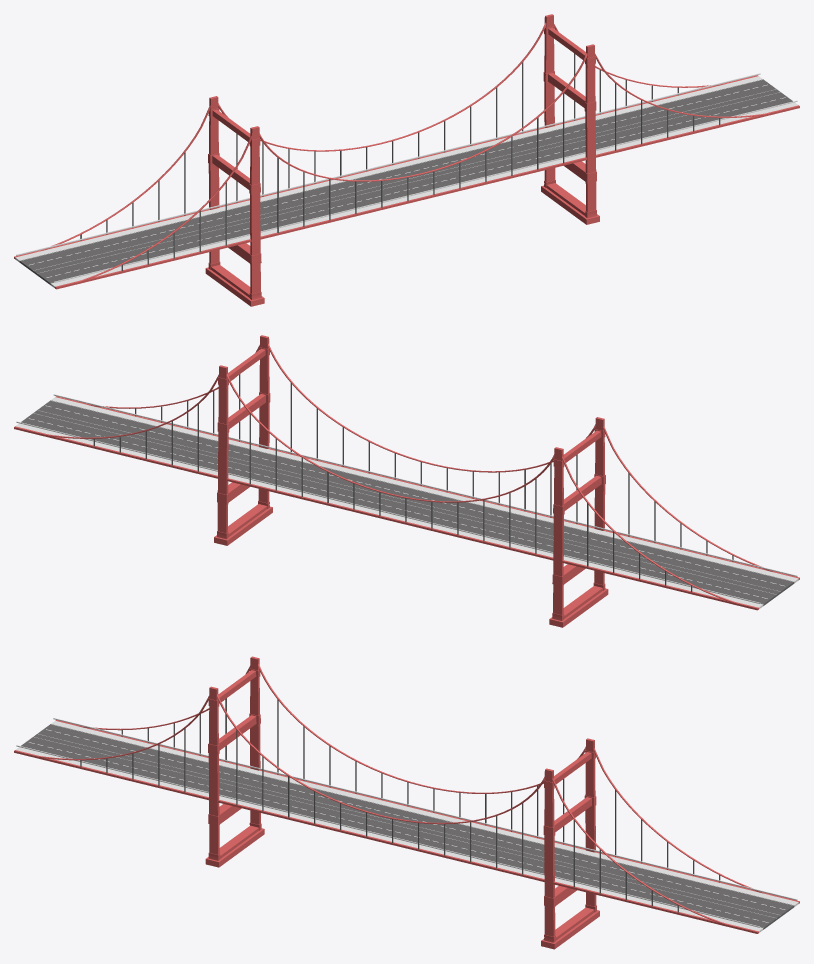
Rendered from bridge.glb.
The picture shows the model from 3 angles, top to bottom: view 1: azimuth 30°, elevation 25°; view 2: azimuth 150°, elevation 25°; view 3: azimuth 330°, elevation 25°; orthographic projection.
Parts seen in each view (by area): view 1: bridge; view 2: bridge; view 3: bridge.
Part boxes in pixels (x1,y1,x2,y2): bridge: [14, 14, 799, 306]; bridge: [14, 335, 799, 627]; bridge: [14, 656, 799, 949].
Bounding box in the file's own units: 65.61 × 14.85 × 6.96.
